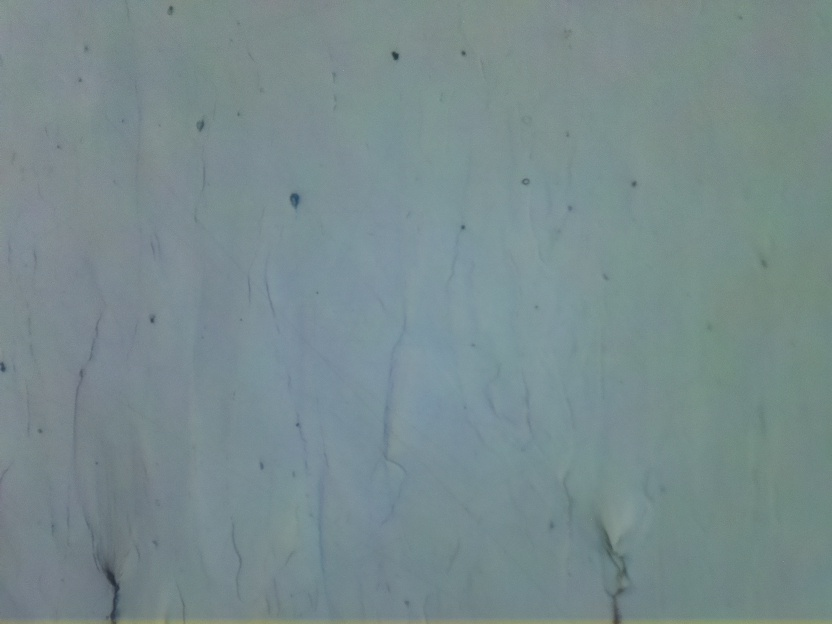crack: (593, 531, 638, 624), (92, 559, 126, 624)
